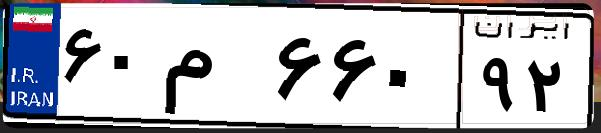0: (385, 28, 445, 110), (110, 28, 158, 98)
2: (525, 38, 570, 115)
6: (270, 28, 330, 110), (330, 28, 385, 110), (57, 26, 110, 100)
9: (475, 38, 525, 113)
م: (158, 20, 270, 120)
